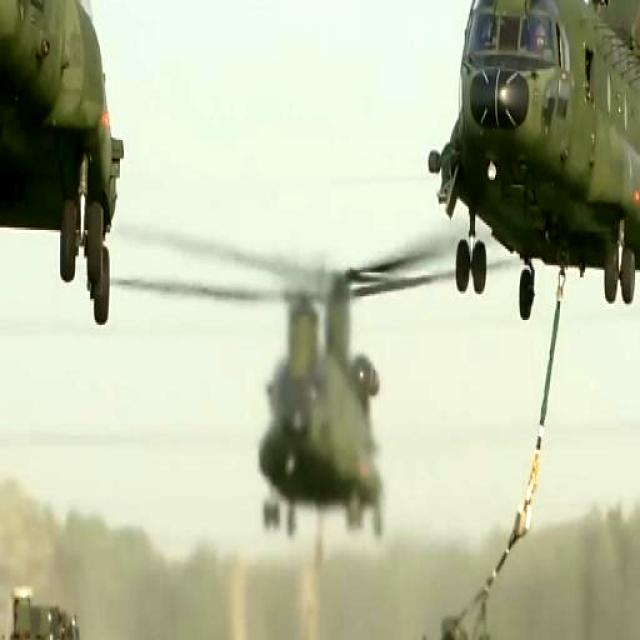drone: (209, 152, 422, 569), (411, 0, 640, 321)
